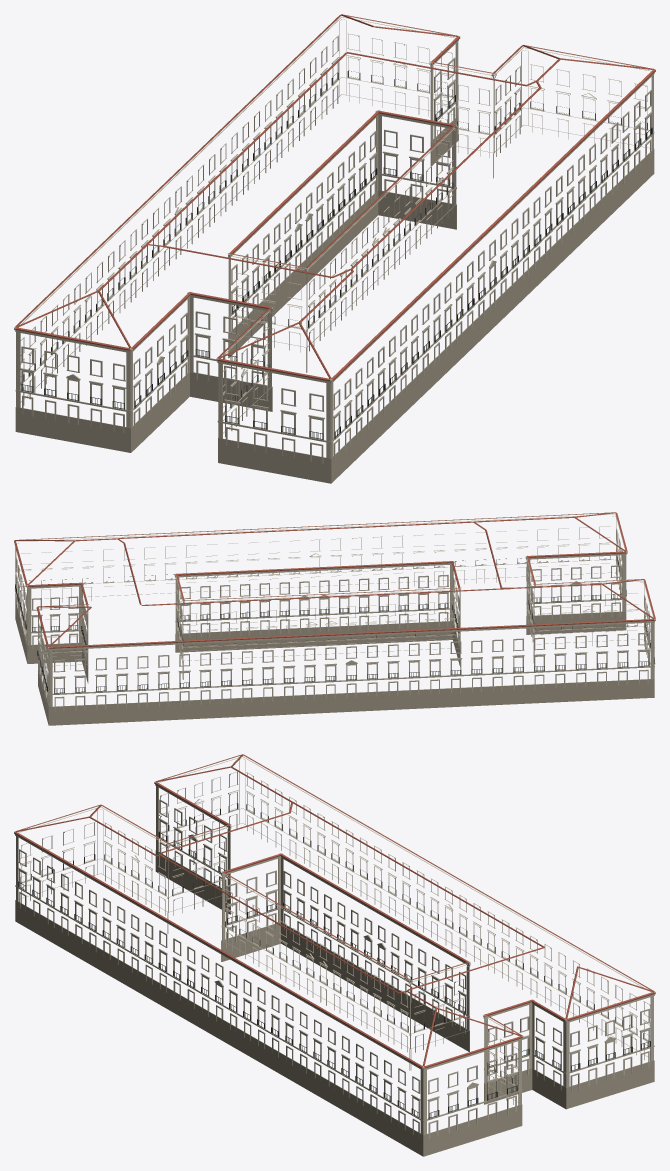
3 views of the same model, one above another, from view 1: azimuth 30°, elevation 25°; view 2: azimuth 150°, elevation 25°; view 3: azimuth 270°, elevation 25° (orthographic). The views are drawn at different scales.
Parts seen in each view (by area): view 1: detail; view 2: detail; view 3: detail.
Part boxes in pixels (x1,y1,x2,y2): detail: [14, 14, 655, 483]; detail: [14, 512, 655, 725]; detail: [14, 754, 655, 1156].
Size of the model in its own units: 113 by 18.9 by 97.4.
